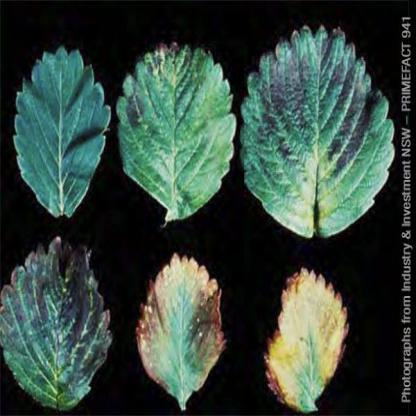Strawberry leaf: (240, 15, 395, 242), (112, 31, 240, 229), (13, 43, 110, 221)
